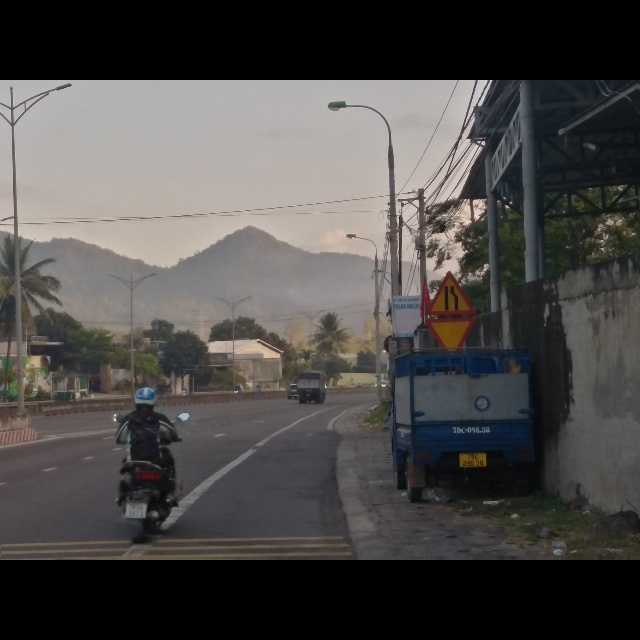Giao nhau với đường ưu tiên: (427, 317, 477, 352)
Đường bị hẹp bên phải: (426, 271, 476, 316)
